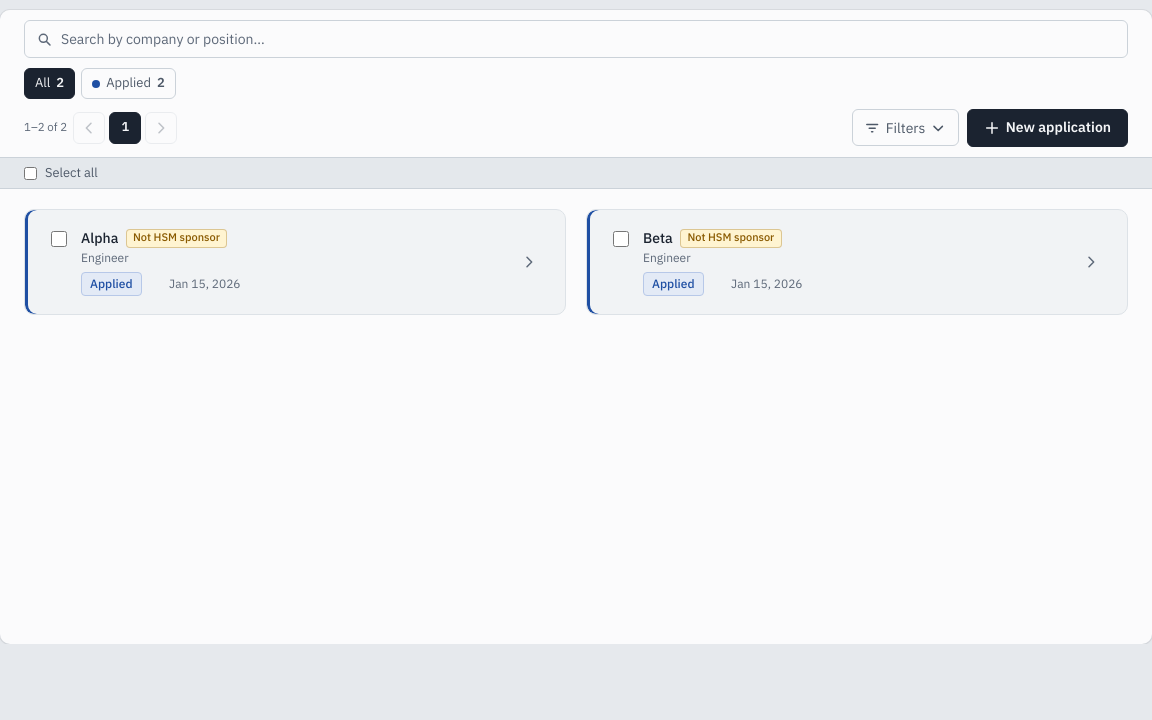
Test: ApplicationsView – row accessibility › while selecting, clicking a name adds it to the selection instead of opening it
This screenshot has width=1152, height=720.
Click the 1st checkbox with class "row-checkbox".
click(59, 239)  # box [51,231,67,247]
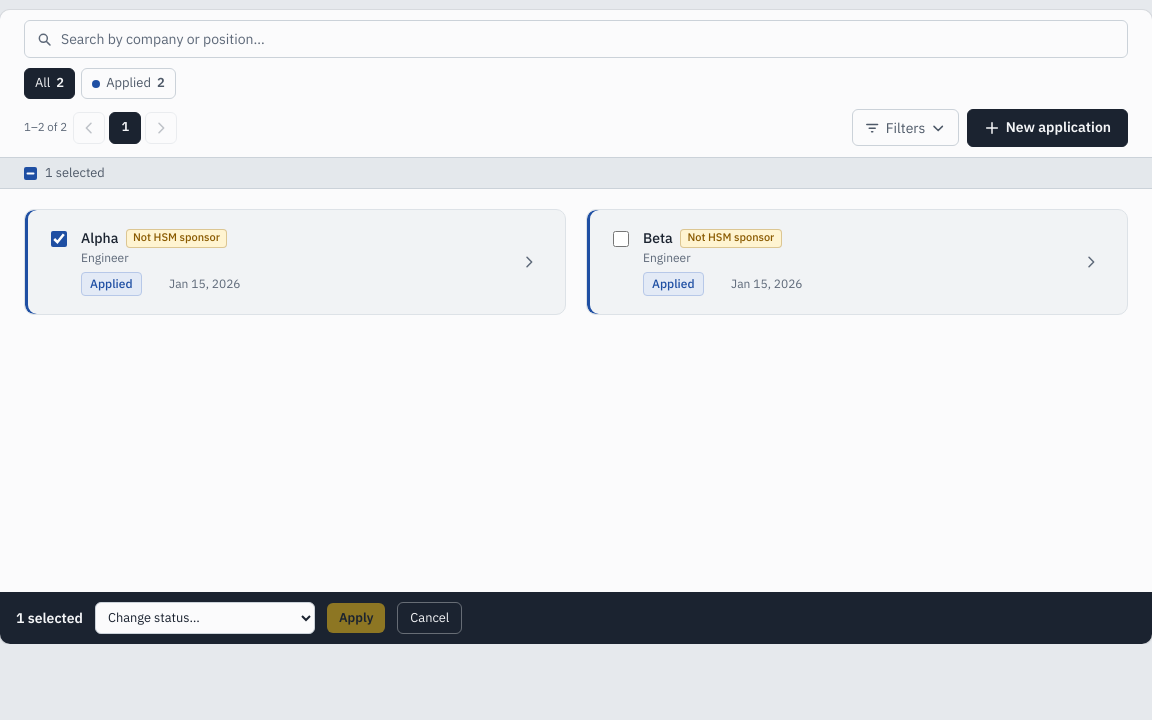
Click the button with class "row-open" showing "Beta".
click(658, 238)  # box [643,228,673,249]
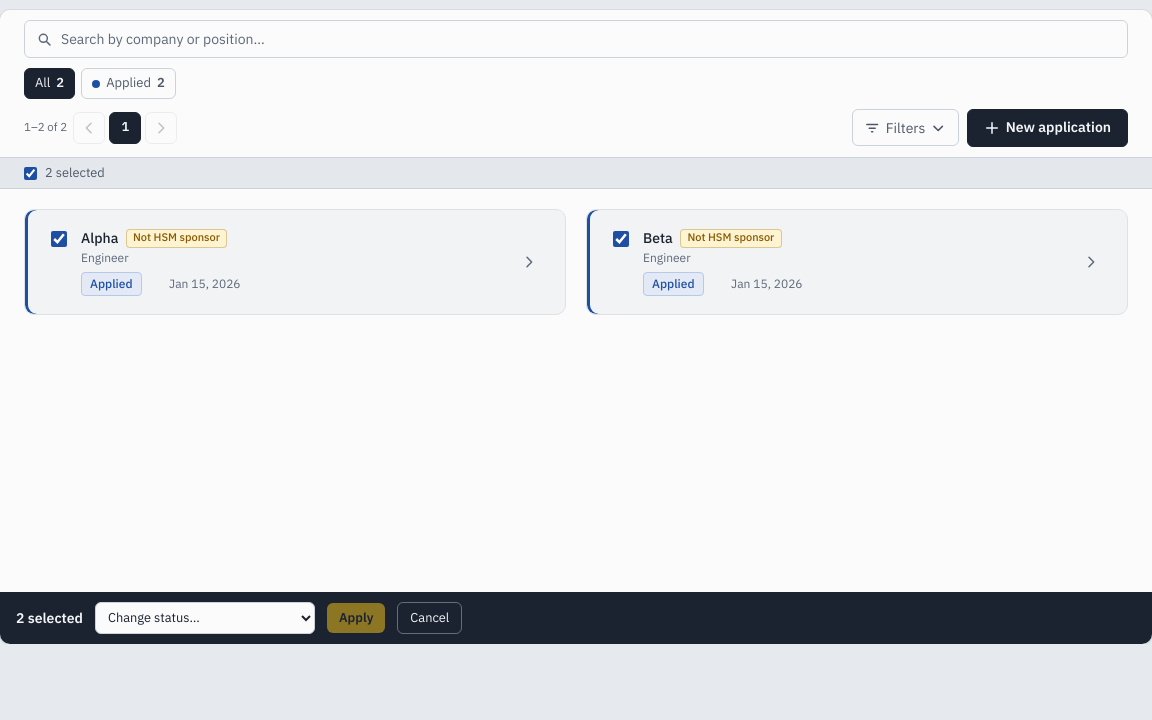
Expected: the text with class "bulk-count" reads "2 selected", [16,609,83,627]
